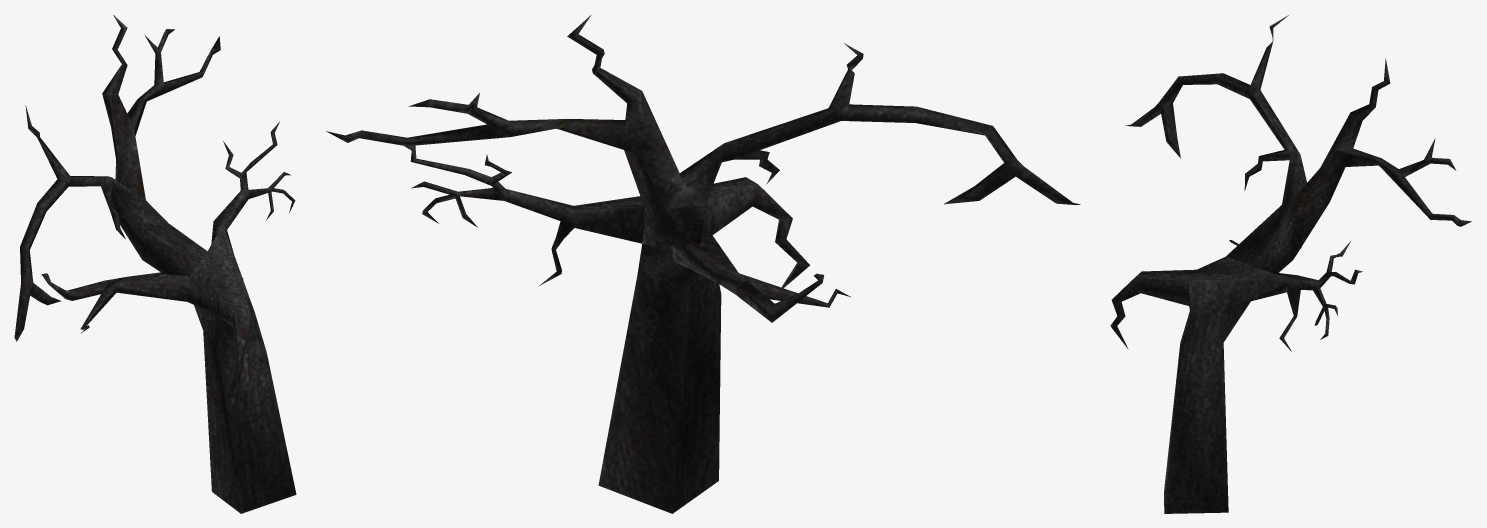
Rendered from Tree 3.obj.
3 views of the same model, side by side, from view 1: azimuth 30°, elevation 25°; view 2: azimuth 150°, elevation 25°; view 3: azimuth 270°, elevation 25° (orthographic). The views are drawn at different scales.
Visible parts, largest first — view 1: Tree3; view 2: Tree3; view 3: Tree3.
Part boxes in pixels (x1,y1,x2,y2): Tree3: [14, 15, 296, 513]; Tree3: [326, 15, 1080, 513]; Tree3: [1110, 15, 1471, 513].
Bounding box in the file's own units: 2.31 × 2.45 × 1.88.
Materials: 1 (1 with a texture image).
